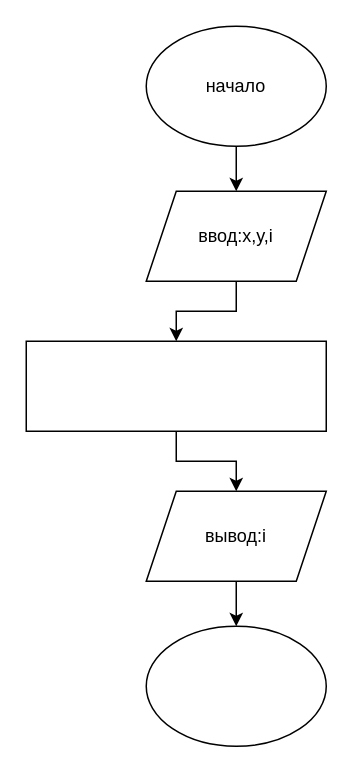
This 353x773 diagram has some shape labels left out. Each missing label, with the centre of its shape:
i=(x+y):2*√(ln(x+y)/(x*y)): the point at 175,385
коней: the point at 235,685
